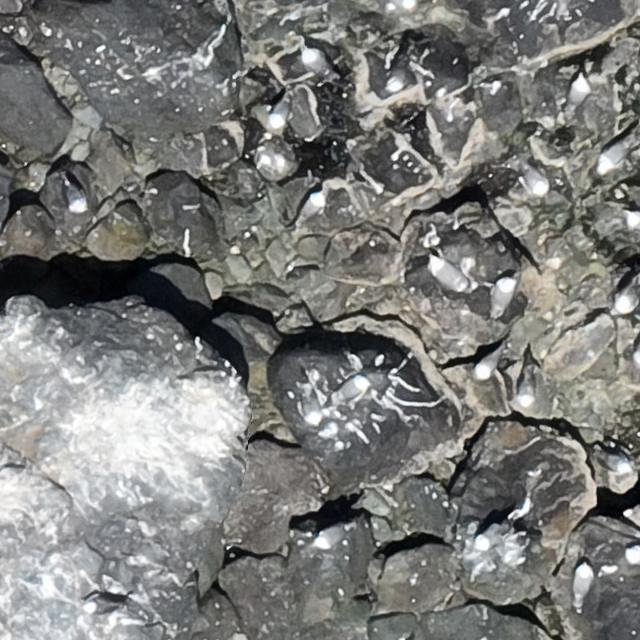umineko: (598, 134, 633, 174), (430, 256, 468, 292), (517, 157, 548, 197), (302, 47, 335, 81), (516, 362, 540, 408), (332, 376, 370, 404), (301, 376, 323, 424), (612, 275, 637, 317), (474, 524, 515, 549), (572, 564, 592, 602), (388, 63, 411, 93), (300, 192, 322, 222), (474, 354, 500, 379), (495, 280, 514, 313), (570, 77, 589, 110), (316, 525, 345, 546), (603, 451, 630, 472), (85, 595, 118, 611), (65, 186, 84, 213), (272, 98, 288, 125), (386, 0, 417, 9), (626, 214, 639, 234)
